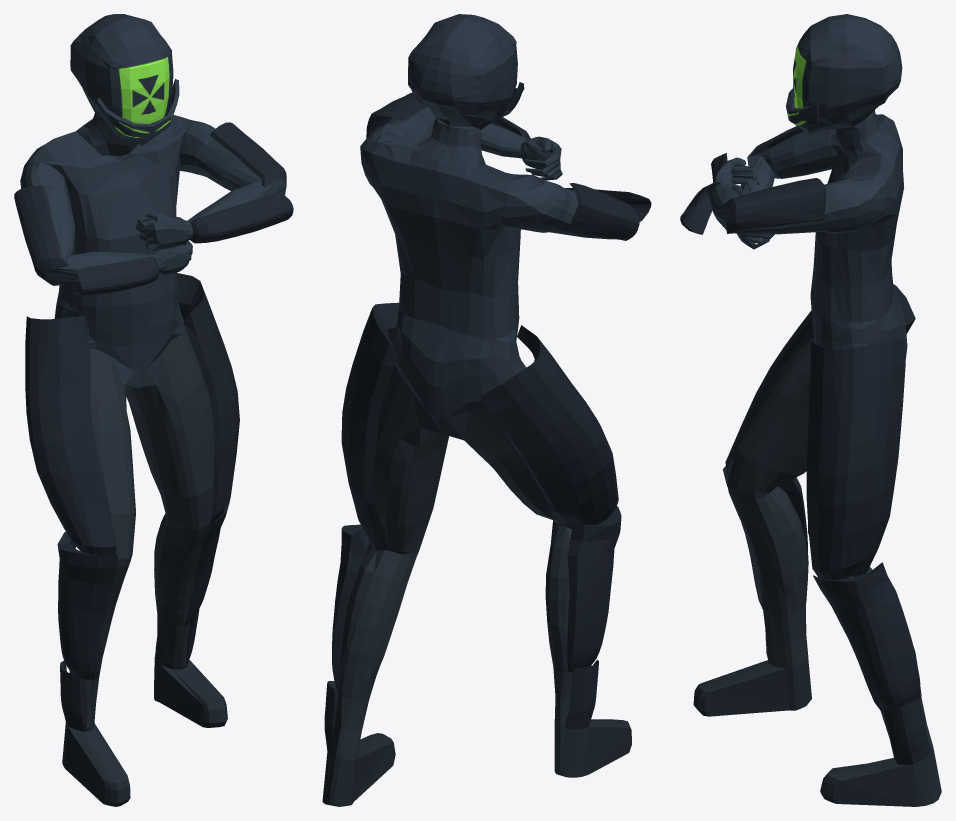
File: Bastion_WF_000017.obj
The picture shows the model from 3 angles, left to right: view 1: azimuth 30°, elevation 25°; view 2: azimuth 150°, elevation 25°; view 3: azimuth 270°, elevation 25°; orthographic projection. The views are drawn at different scales.
Visible parts, largest first — view 1: Cube.002; view 2: Cube.002; view 3: Cube.002.
Part boxes in pixels (bbox=[...]): Cube.002: bbox=[14, 14, 293, 806]; Cube.002: bbox=[322, 14, 651, 806]; Cube.002: bbox=[680, 14, 941, 806].
Bounding box in the file's own units: 1.31 × 3.8 × 1.22.
